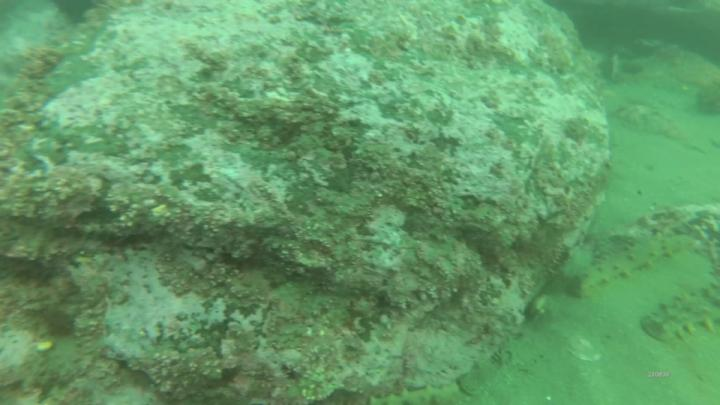holothurian: (578, 232, 696, 295), (644, 283, 720, 343)
